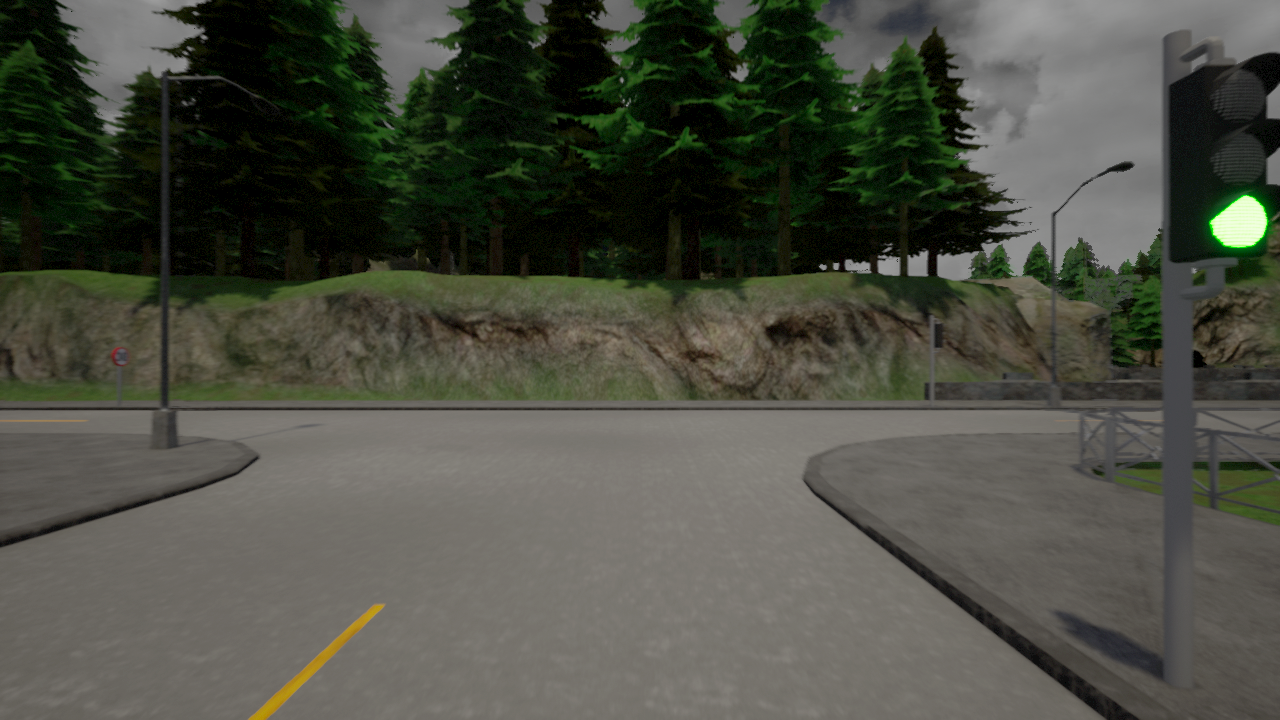green: (1174, 59, 1270, 260)
